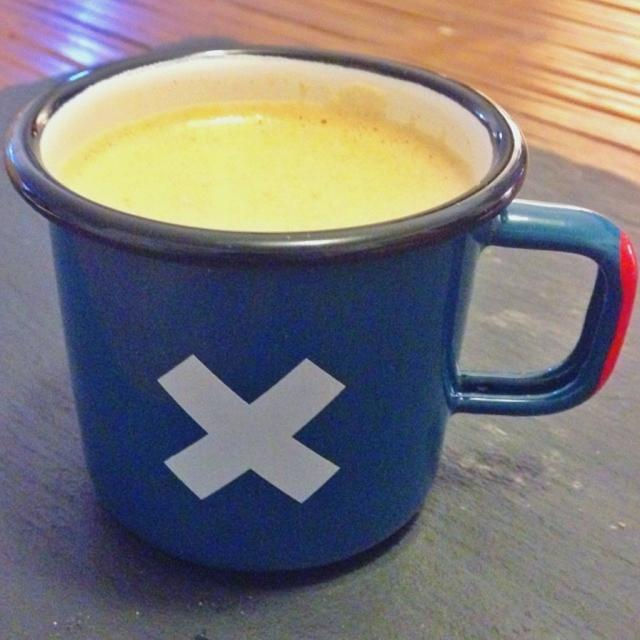Tea: (32, 48, 603, 594), (61, 102, 478, 228)
